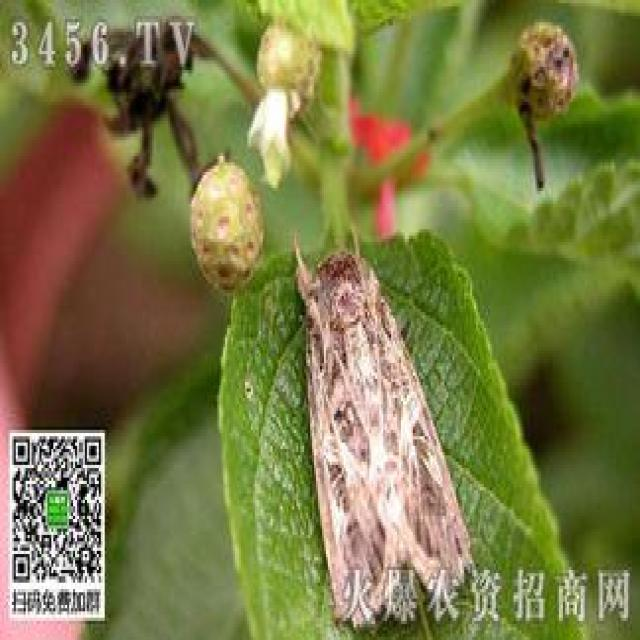BeetArmyWorm-Adult-: (278, 217, 482, 620)
